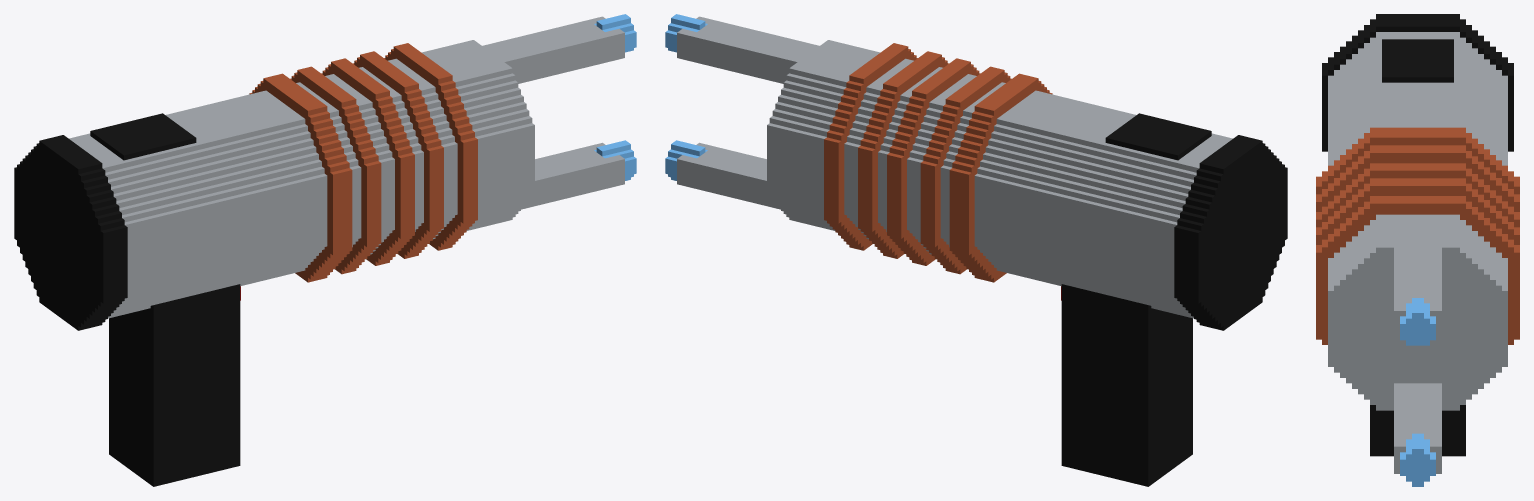
File: teleporter.glb
The picture shows the model from 3 angles, left to right: view 1: azimuth 30°, elevation 25°; view 2: azimuth 150°, elevation 25°; view 3: azimuth 270°, elevation 25°; orthographic projection. The views are drawn at different scales.
Parts seen in each view (by area): view 1: teleporter:compound; view 2: teleporter:compound; view 3: teleporter:compound.
Part boxes in pixels (box(x1,y1,x2,y2)): teleporter:compound: box(14, 14, 636, 486); teleporter:compound: box(665, 14, 1287, 486); teleporter:compound: box(1316, 14, 1519, 486).
Bounding box in the file's own units: 0.236 × 0.134 × 0.068.
